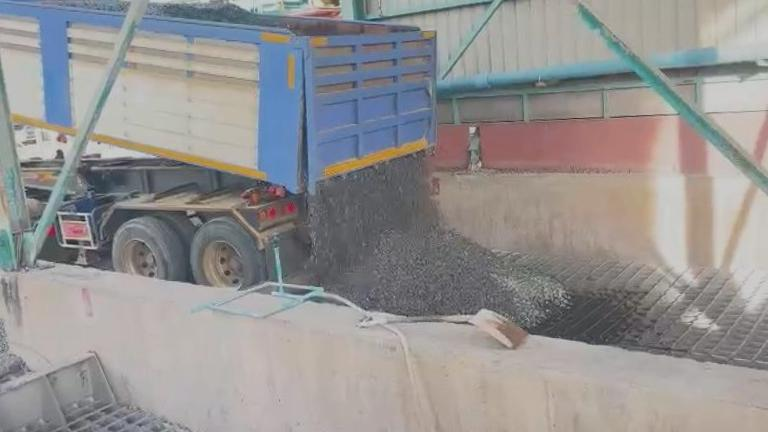gravel: (308, 157, 568, 325), (147, 2, 292, 28), (0, 320, 27, 432), (35, 0, 130, 13)
